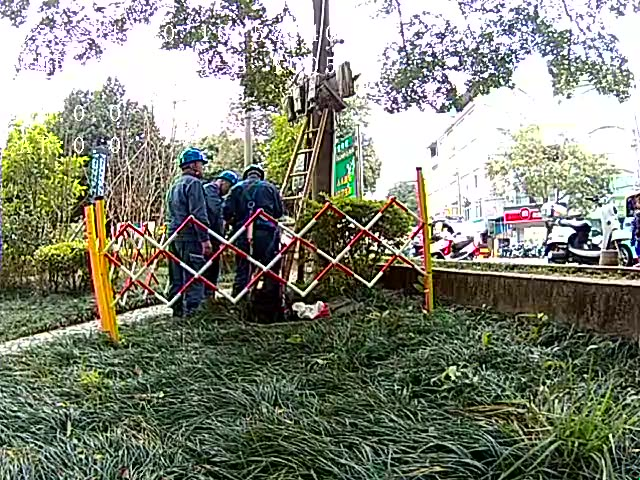halt: (182, 151, 210, 178), (219, 173, 240, 199)
